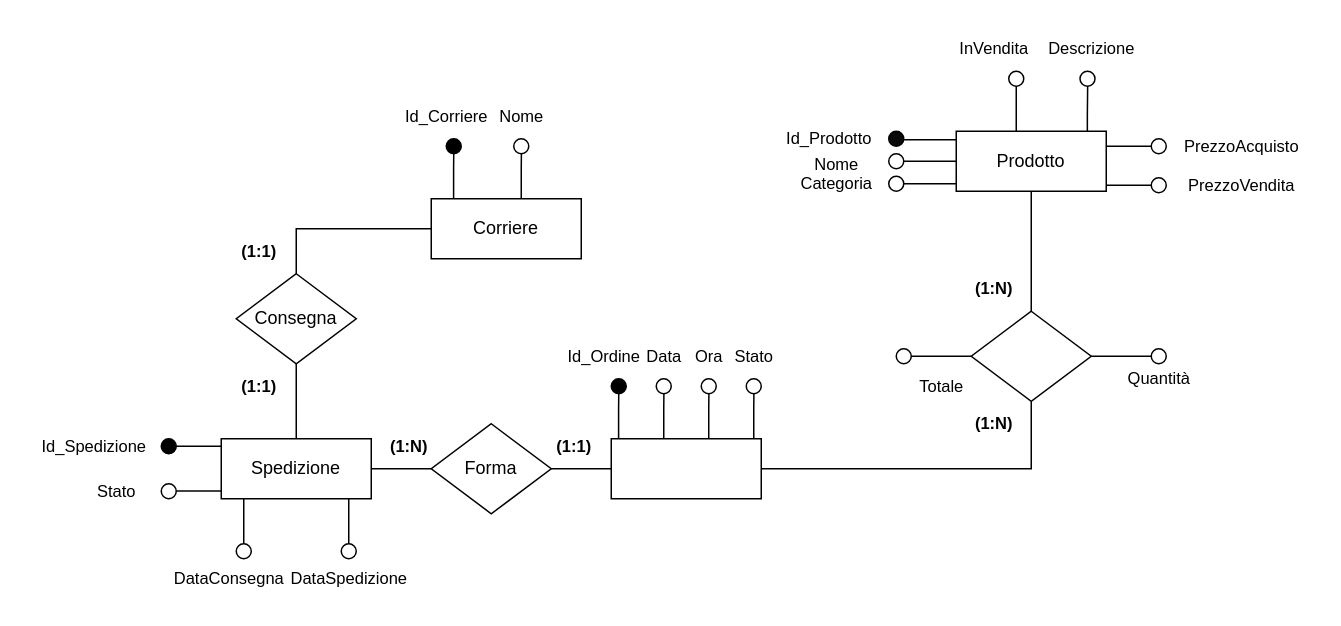
Image size: 1341x626. Some labels were removed from this diagram. Here are the shapes that lost their labels. From the top down, the box of each, then its label:
(970, 310, 1091, 401): DettaglioOrdine
(610, 437, 761, 499): Ordine
